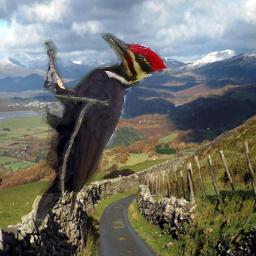Woodpecker: (31, 33, 168, 232)
